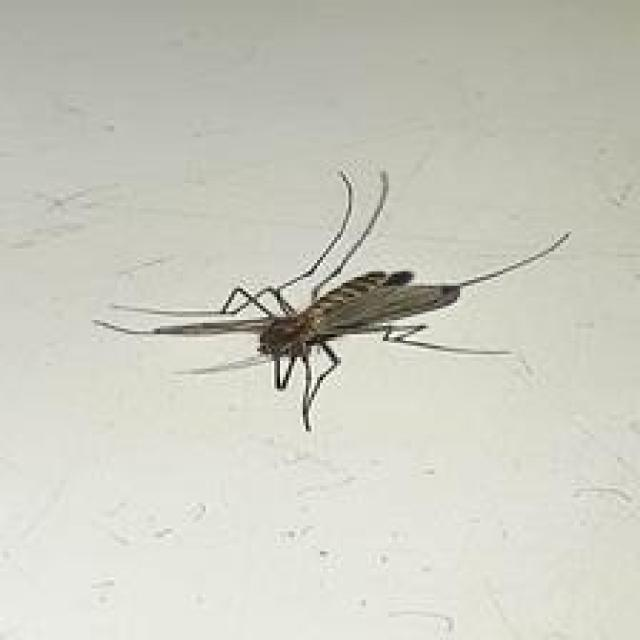Culex: (91, 167, 572, 433)
